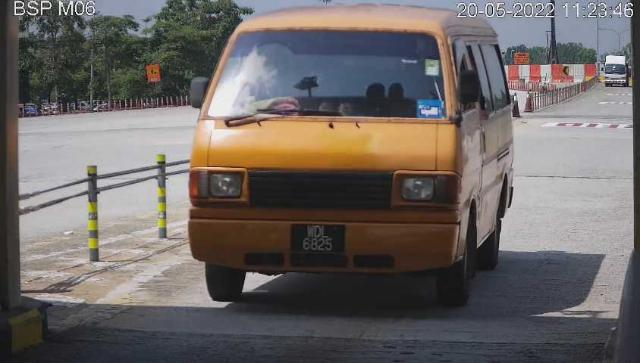License_Plate: (289, 222, 349, 258)
van: (190, 6, 516, 307)
